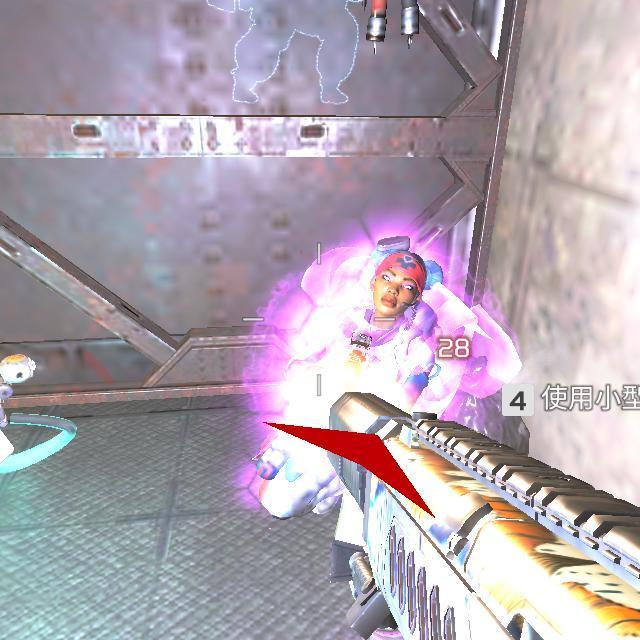avatar: (278, 232, 480, 420)
